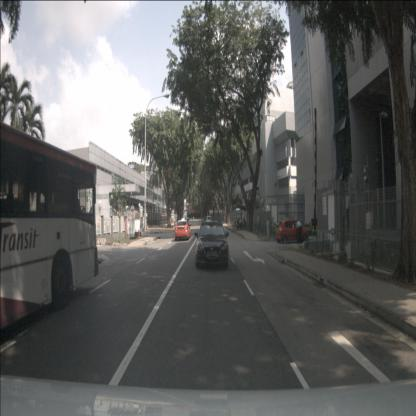human-pedestrian-adult: (296, 220, 302, 244), (239, 213, 243, 230), (242, 217, 246, 230), (233, 214, 236, 228)
vehicle-bus-rigid: (0, 119, 99, 352)
vehicle-car: (195, 221, 228, 268), (274, 219, 310, 244), (175, 220, 191, 241), (206, 216, 212, 225)
